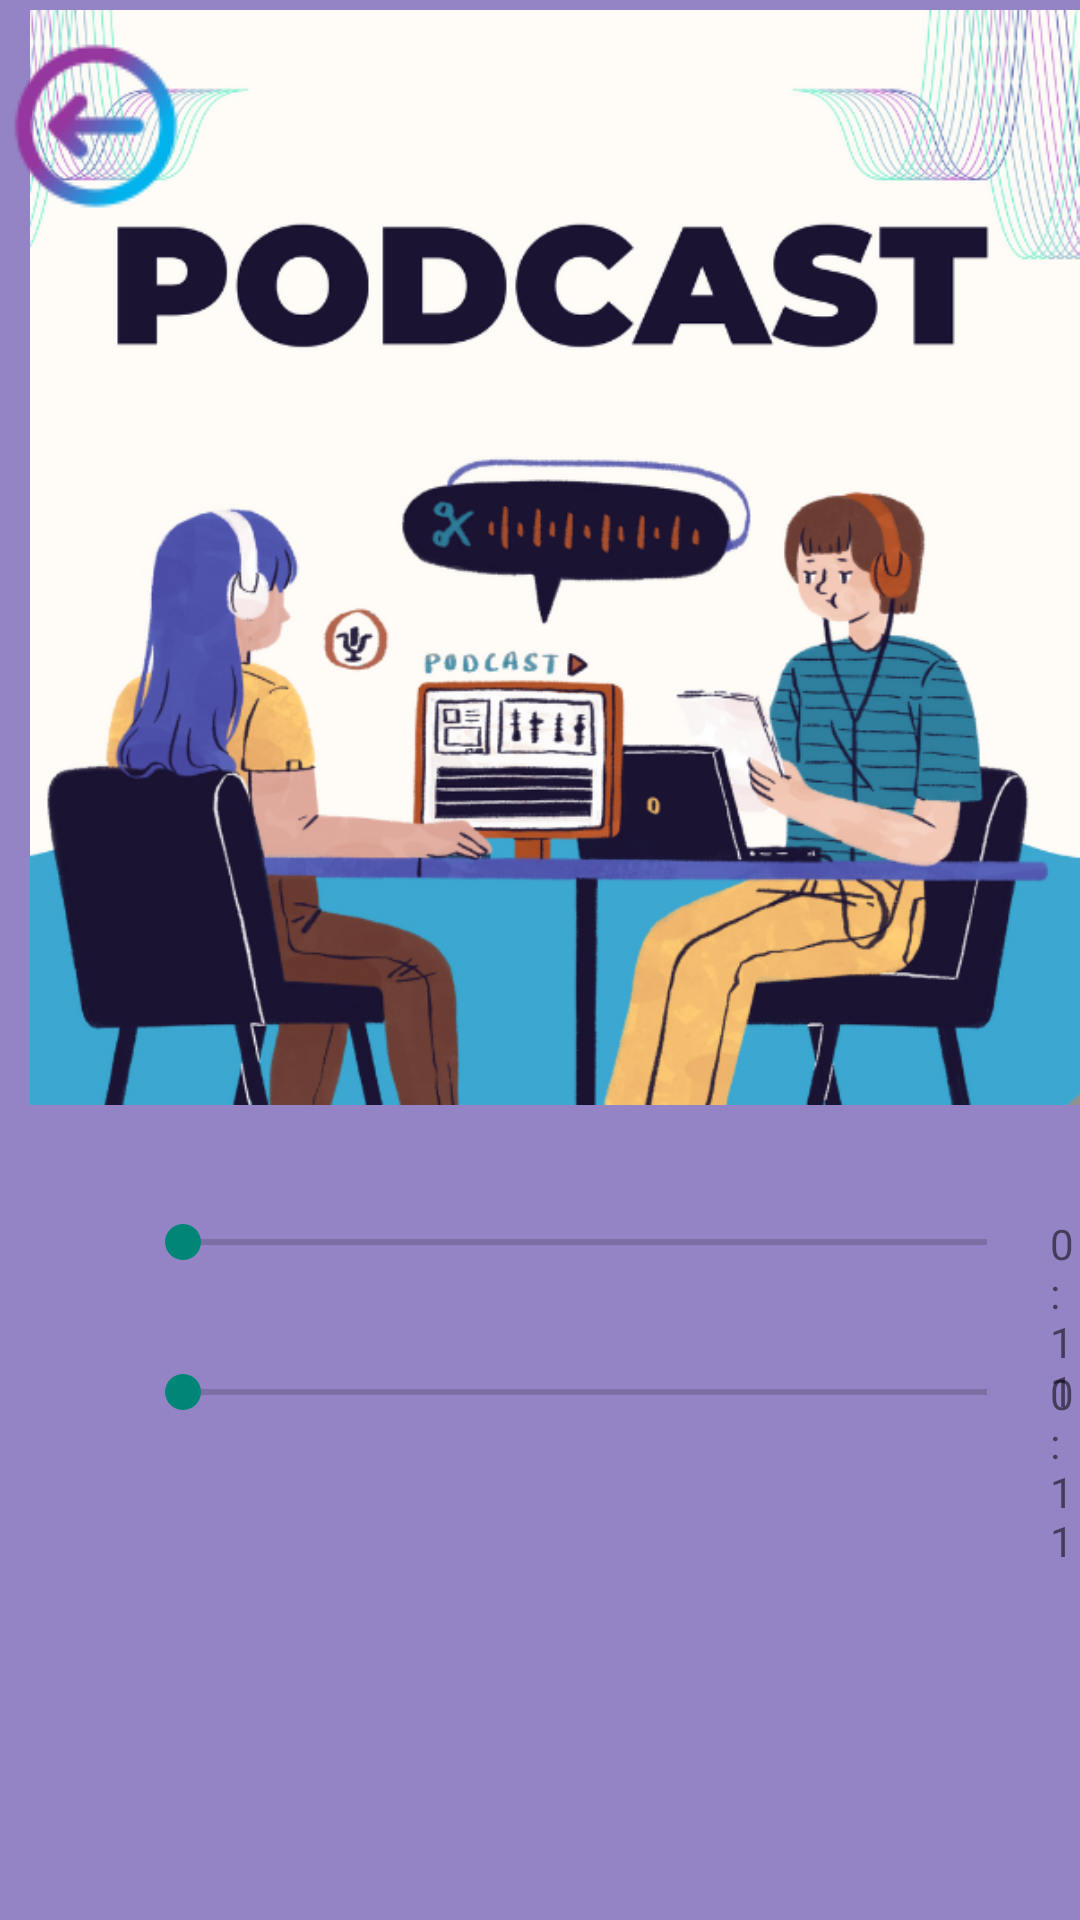

Named icons in this screenshot (1080*1920) and their bounding boxes, [x1, y1, x2, y2]:
back: [0, 30, 192, 222]
